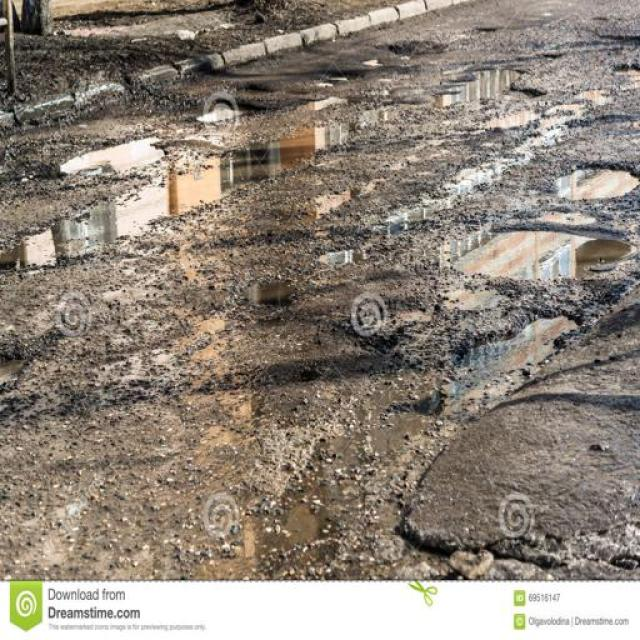puddle: (104, 126, 239, 217), (480, 223, 623, 303), (246, 115, 360, 191), (457, 59, 538, 155), (556, 156, 639, 210)
